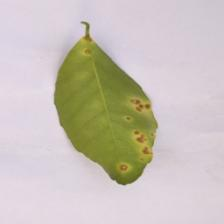canker: (108, 77, 177, 192)
